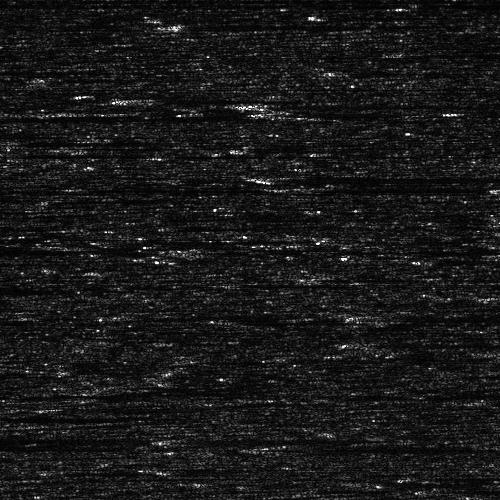rock: (244, 171, 317, 182), (0, 111, 44, 124), (141, 20, 214, 27), (228, 100, 301, 107), (282, 184, 345, 189), (341, 340, 372, 343)
shadow: (0, 111, 263, 124), (281, 171, 500, 182), (265, 100, 499, 107), (178, 20, 333, 27), (314, 184, 469, 189), (0, 285, 71, 294), (357, 340, 500, 343), (0, 125, 33, 136)
